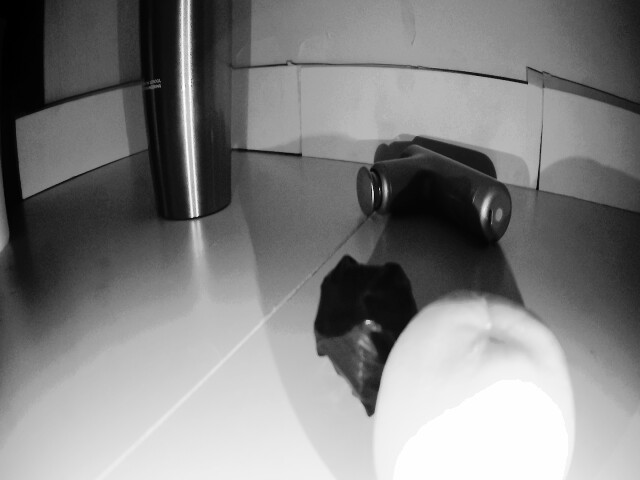silver: (319, 258, 402, 388)
